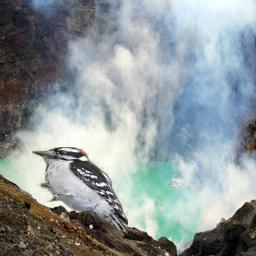Woodpecker: (32, 147, 128, 235)
